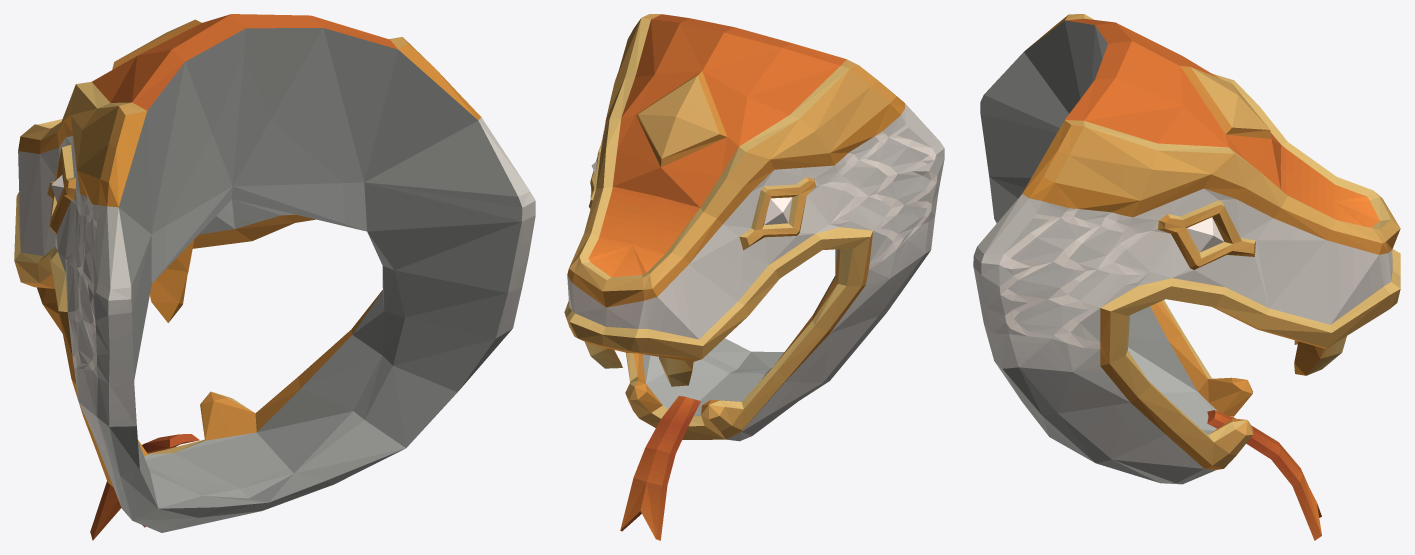
File: CharSkyKid_Mask_FortuneSnake.glb
3 renders of one model, left to right at view 1: azimuth 30°, elevation 25°; view 2: azimuth 150°, elevation 25°; view 3: azimuth 270°, elevation 25°, orthographic. The views are drawn at different scales.
Visible parts, largest first — view 1: CharSkyKid_Mask_FortuneSnake; view 2: CharSkyKid_Mask_FortuneSnake; view 3: CharSkyKid_Mask_FortuneSnake.
Boxes of the visible parts, box(x1,y1,x2,y2) form: CharSkyKid_Mask_FortuneSnake: box(14, 14, 535, 540); CharSkyKid_Mask_FortuneSnake: box(564, 14, 944, 540); CharSkyKid_Mask_FortuneSnake: box(973, 14, 1400, 540).
Size of the model in its own units: 2.44 by 3.29 by 2.6.
1 material, 1 textured.
